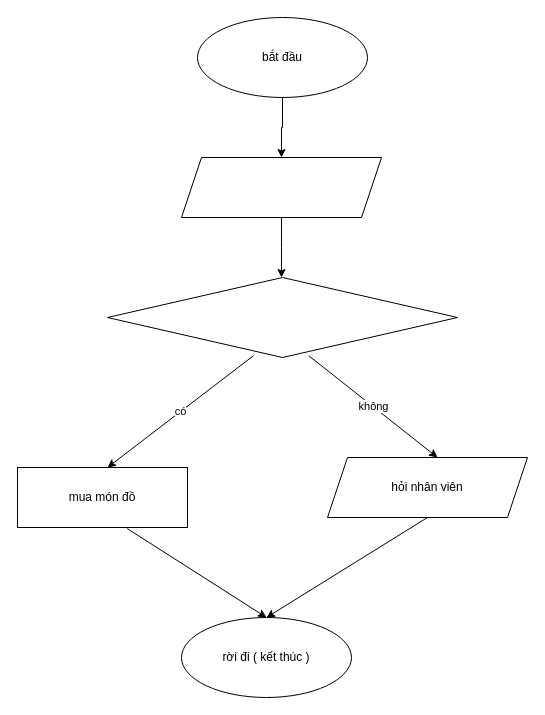
Some shapes in this 545 by 715 pixel diagram are drawn without their labels. The centre of each missing label's shape, as x and y in pixels:
món đồ có trong cửa hàng không ?: (282,317)
tìm kiếm món đồ: (281,187)
